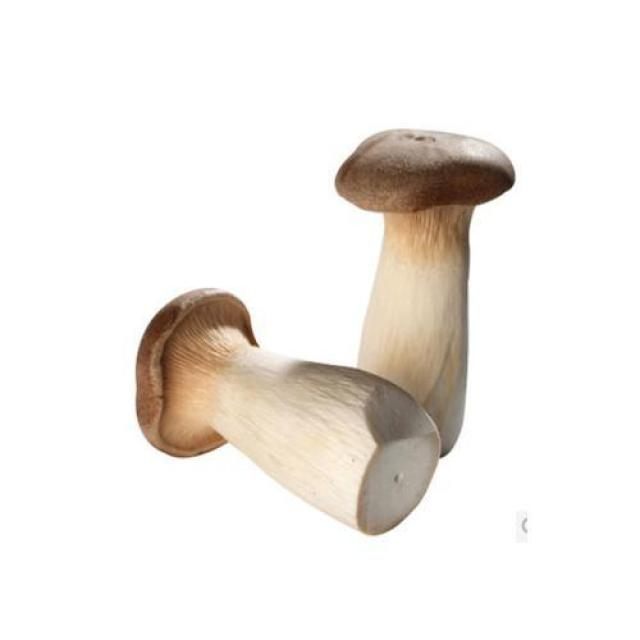Pleurotus eryngii: (133, 285, 439, 540), (337, 127, 514, 458)
